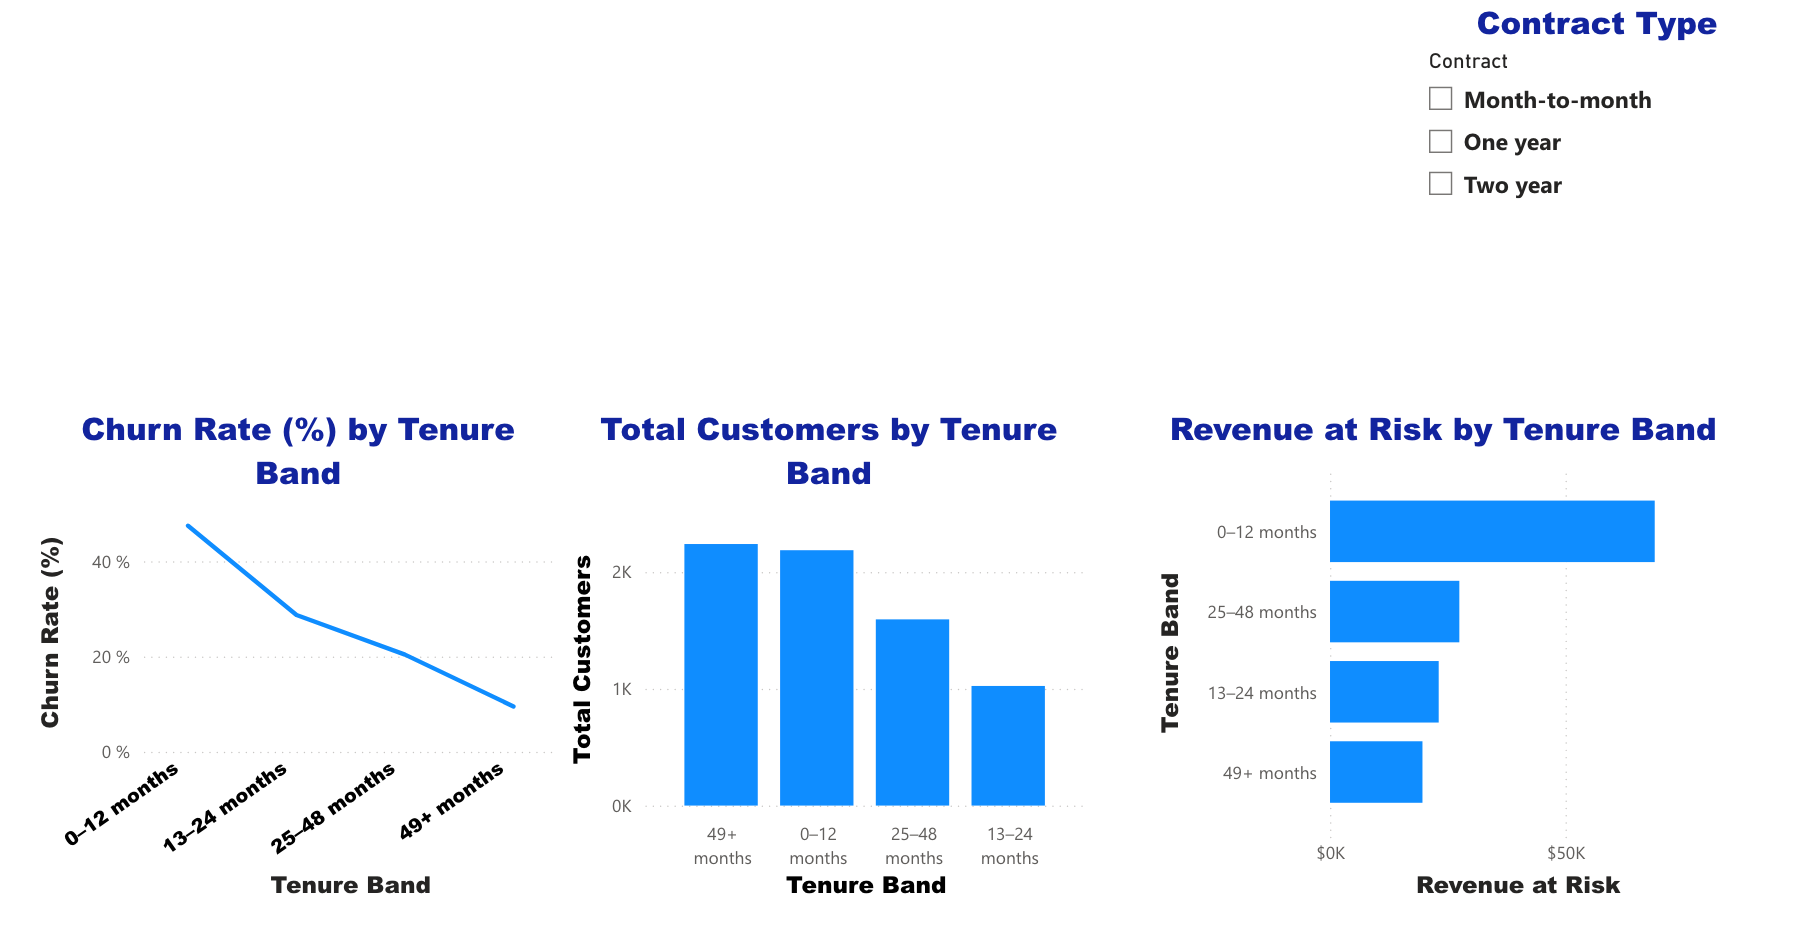

The page's visual inventory and layout, read from the dashboard file:
{"tool":"powerbi","page":{"name":"TENURE & LIFECYCLE ANALYSIS","canvas":[1280,720],"ordinal":2},"visuals":[{"type":"lineChart","fields":{"Category":["Telco Customer Churn.Tenure Band"],"Y":["Telco Customer Churn.Churn Rate (%)"]},"box":[29.4,279.8,366.2,345.5],"z":0},{"type":"columnChart","fields":{"Category":["Telco Customer Churn.Tenure Band"],"Y":["Telco Customer Churn.Total Customers"]},"box":[395.6,279.8,364.5,345.5],"z":1000},{"type":"barChart","fields":{"Category":["Telco Customer Churn.Tenure Band"],"Y":["Telco Customer Churn.Revenue at Risk"]},"box":[799.8,279.8,400.8,345.5],"z":2000},{"type":"slicer","title":"Contract Type","fields":{"Values":["Telco Customer Churn.Contract"]},"box":[977.7,0,257.4,226.3],"z":3000}]}

Visuals, with their boxes on the page's 1280x720 design canvas (x1, y1, x2, y2). These are canvas units, not pixel positions in the 1802x938 screenshot, which may show the page scaled, cropped or inside an application window:
lineChart - Telco Customer Churn.Tenure Band x Telco Customer Churn.Churn Rate (%): 29, 280, 396, 625
columnChart - Telco Customer Churn.Tenure Band x Telco Customer Churn.Total Customers: 396, 280, 760, 625
barChart - Telco Customer Churn.Tenure Band x Telco Customer Churn.Revenue at Risk: 800, 280, 1201, 625
"Contract Type" slicer: 978, 0, 1235, 226
